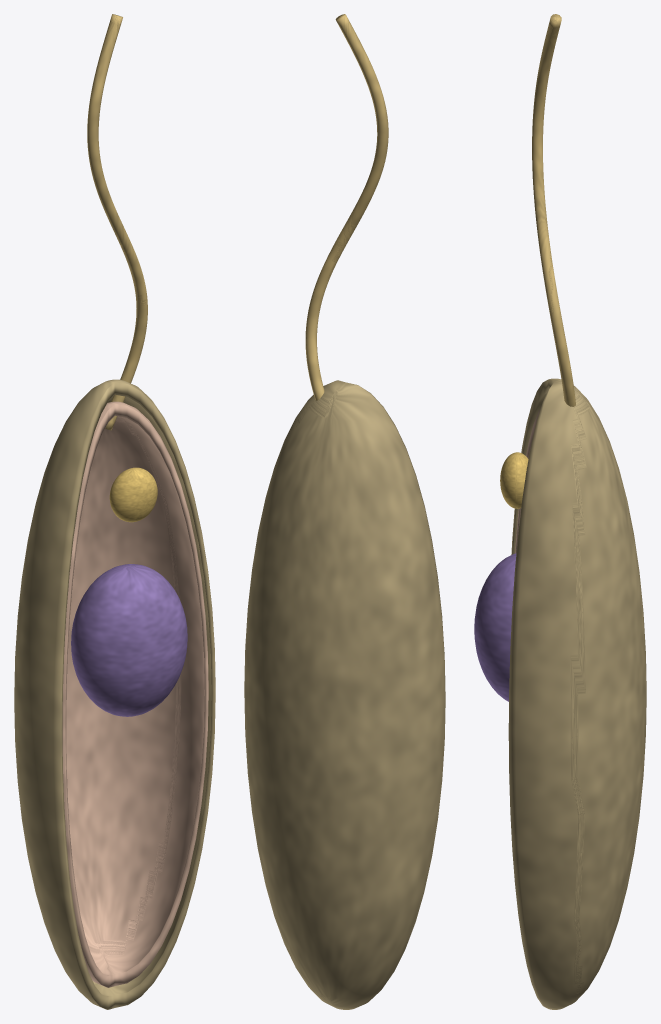
File: cutaway.glb
The picture shows the model from 3 angles, left to right: view 1: azimuth 30°, elevation 25°; view 2: azimuth 150°, elevation 25°; view 3: azimuth 270°, elevation 25°; orthographic projection.
Visible parts, largest first — view 1: citoplasma_mesh, membrana_mesh, nucleo_mesh, flagelo_mesh, cinetoplasto_mesh; view 2: membrana_mesh, flagelo_mesh; view 3: membrana_mesh, flagelo_mesh, nucleo_mesh, cinetoplasto_mesh.
Boxes of the visible parts, box(x1,y1,x2,y2) form: citoplasma_mesh: box(62, 401, 208, 987); membrana_mesh: box(14, 379, 215, 1009); nucleo_mesh: box(71, 564, 187, 716); flagelo_mesh: box(87, 14, 147, 430); cinetoplasto_mesh: box(109, 467, 157, 522); membrana_mesh: box(244, 380, 445, 1009); flagelo_mesh: box(305, 14, 388, 400); membrana_mesh: box(508, 378, 646, 1009); flagelo_mesh: box(532, 14, 575, 406); nucleo_mesh: box(474, 553, 516, 701); cinetoplasto_mesh: box(500, 452, 528, 508).
Size of the model in its own units: 0.72 by 3.81 by 0.6.
5 materials, 5 textured.
